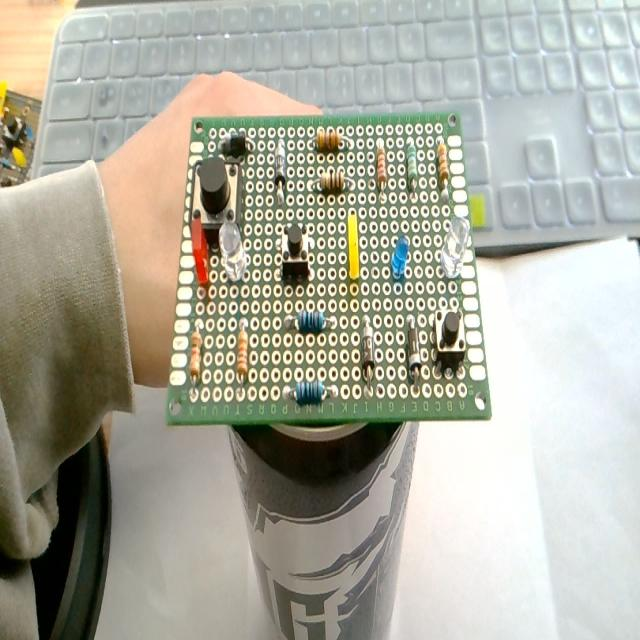diode: (361, 315, 375, 389), (218, 130, 256, 156), (407, 315, 421, 381), (274, 138, 286, 204)
led: (218, 214, 247, 282), (191, 213, 209, 283), (390, 235, 410, 281), (348, 212, 359, 279)
resistor: (438, 216, 470, 278), (284, 380, 338, 405), (405, 140, 419, 202), (190, 320, 202, 385), (437, 140, 449, 196), (297, 308, 325, 332), (237, 320, 248, 381), (317, 126, 341, 151), (320, 168, 344, 192), (376, 143, 386, 190)
switch: (190, 164, 243, 232), (434, 309, 465, 375), (280, 223, 312, 280)
